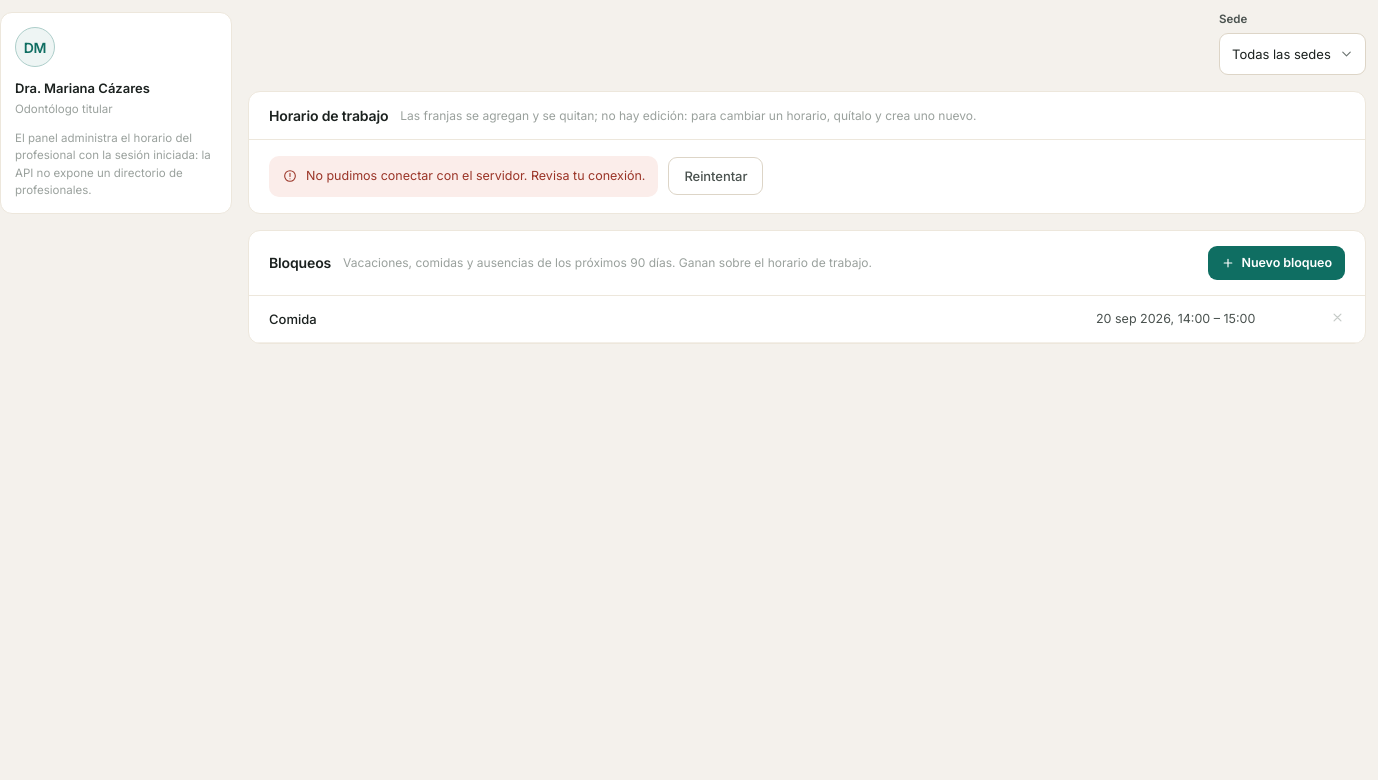
Test: SchedulesScreen error state › offers a retry when the schedule cannot be loaded
Expected: the text "No pudimos conectar con el servidor. Revisa tu conexión." is shown, [306,167,645,186]
Click the button "Reintentar" at (716, 176), box [668,157,763,195]
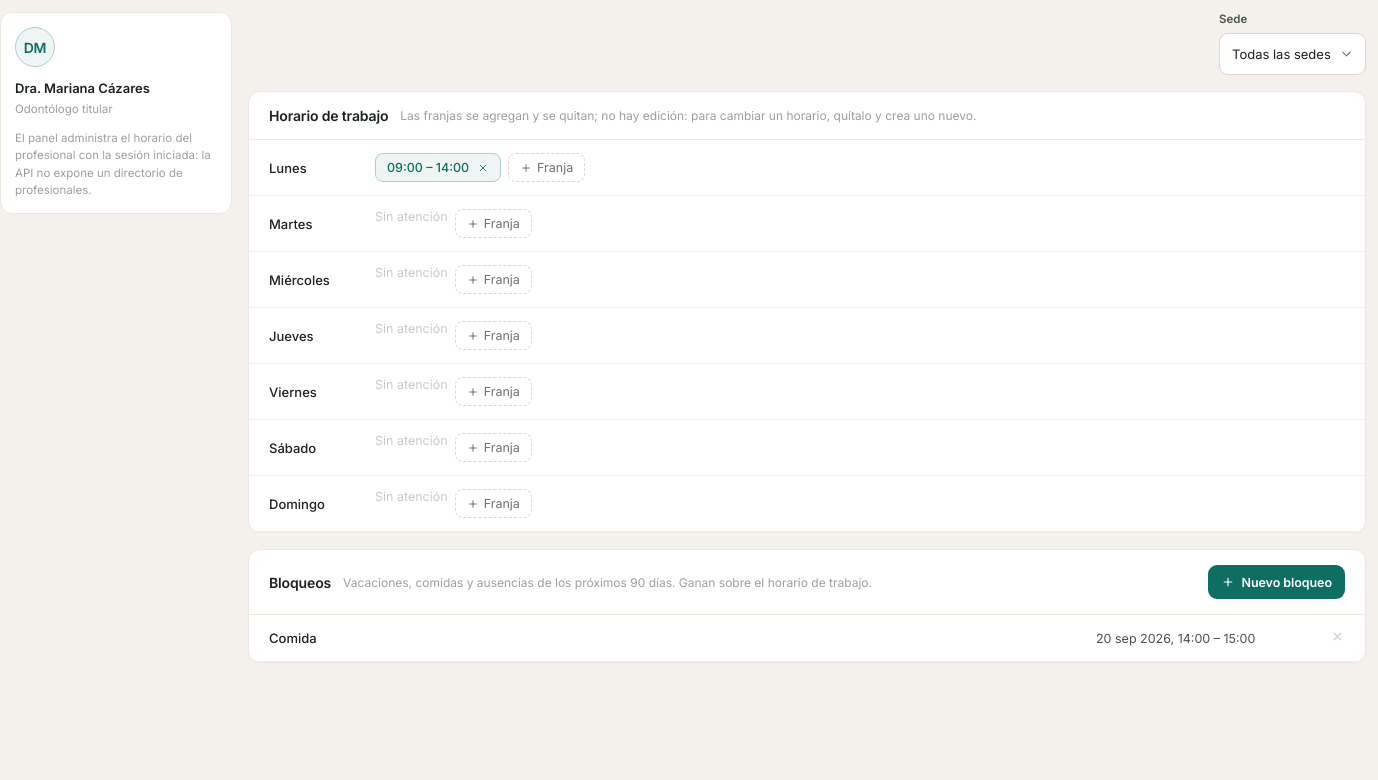
Expected: the text "09:00 – 14:00" is shown, [375,153,501,182]
